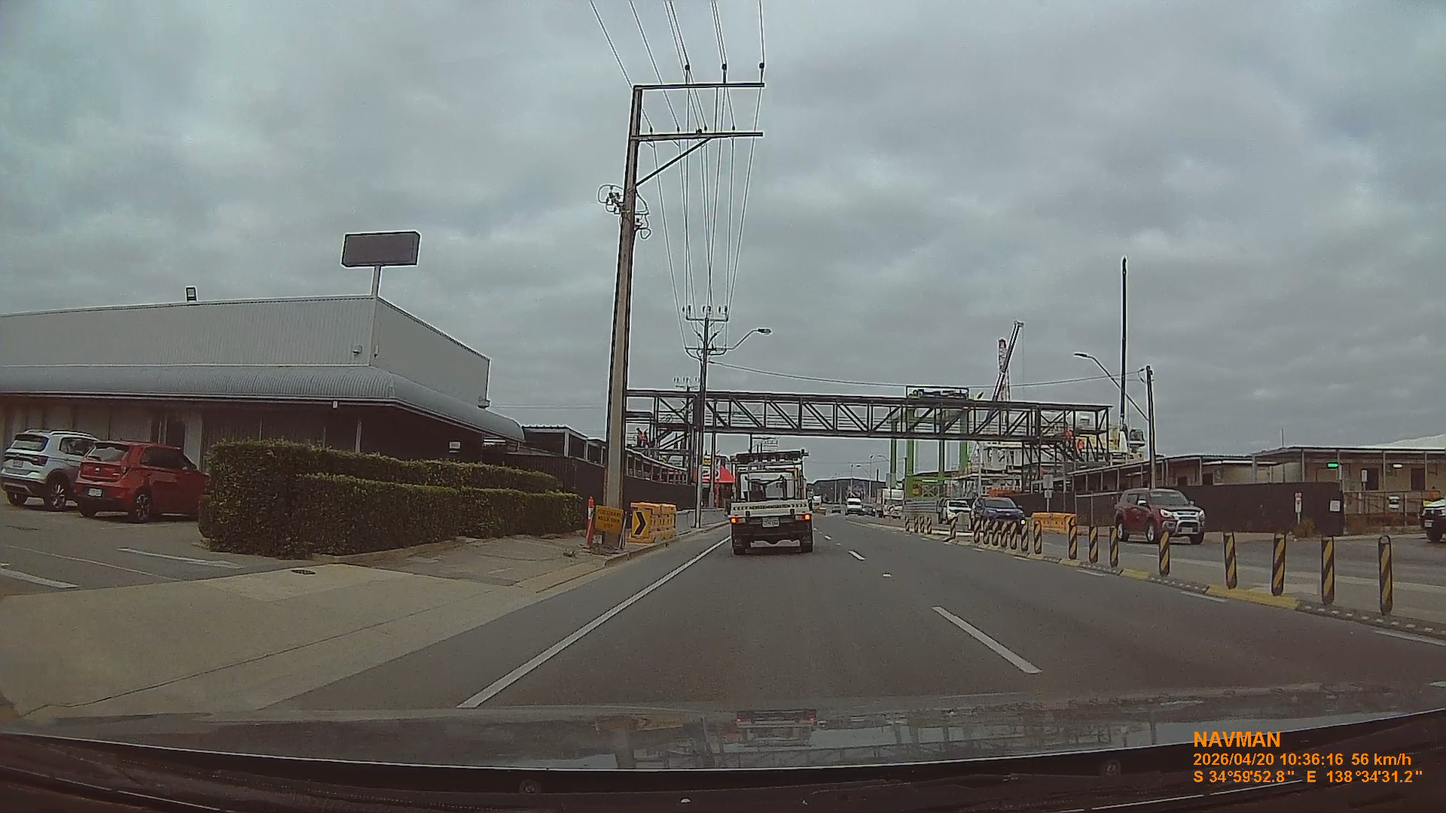fences: (1151, 482, 1345, 536), (1344, 488, 1445, 526), (990, 488, 1064, 517), (895, 498, 949, 525), (692, 507, 727, 530)
road barriers: (1048, 524, 1445, 632), (1379, 534, 1393, 615), (1270, 534, 1288, 596), (1320, 537, 1335, 606), (1032, 512, 1074, 533), (1222, 532, 1237, 589), (905, 513, 934, 534), (1158, 529, 1170, 576), (1010, 522, 1025, 550), (1088, 528, 1099, 565), (1111, 529, 1120, 568), (1068, 527, 1078, 560), (1033, 524, 1042, 556), (972, 516, 982, 544), (992, 521, 1002, 546), (949, 515, 958, 541), (923, 516, 934, 533)
